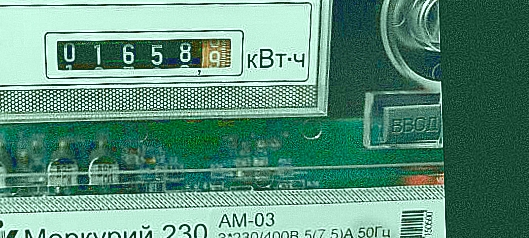0: (62, 40, 75, 63)
1: (92, 42, 102, 65)
5: (149, 42, 163, 65)
6: (120, 42, 134, 64)
8: (177, 40, 191, 62)
9: (205, 48, 219, 69)
screen: (37, 20, 251, 86)
